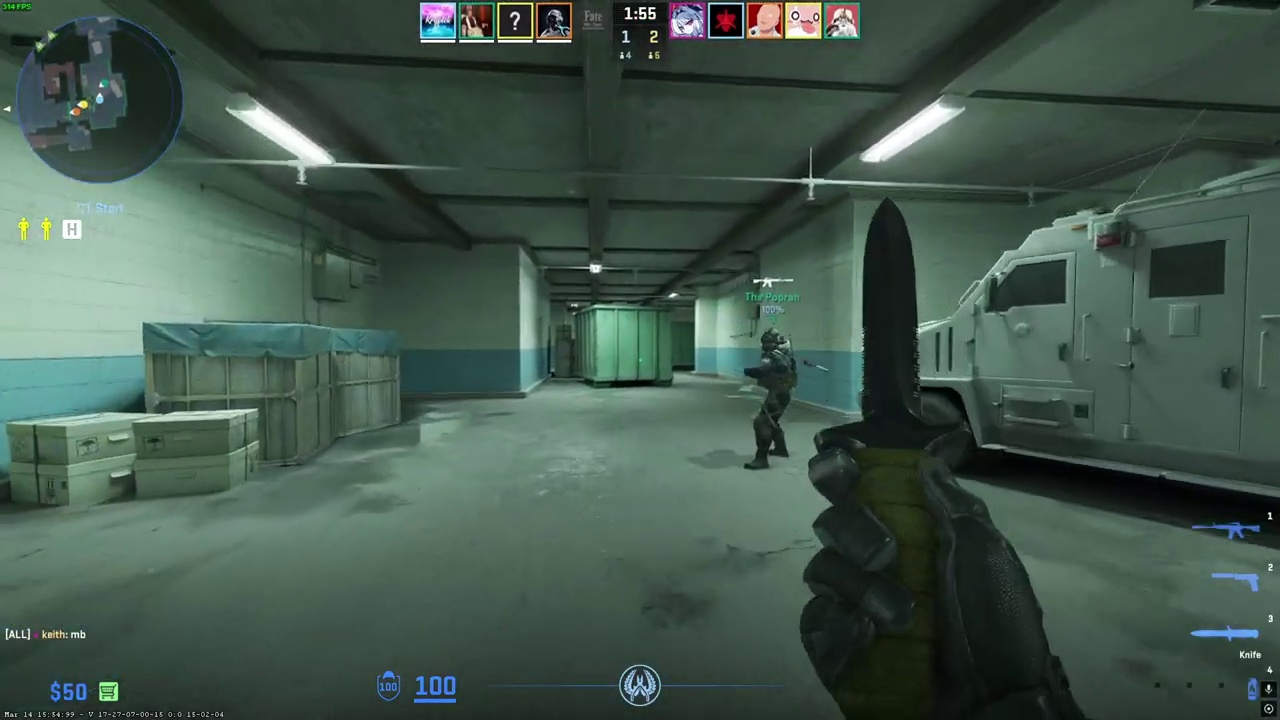CT: (744, 328, 797, 470)
